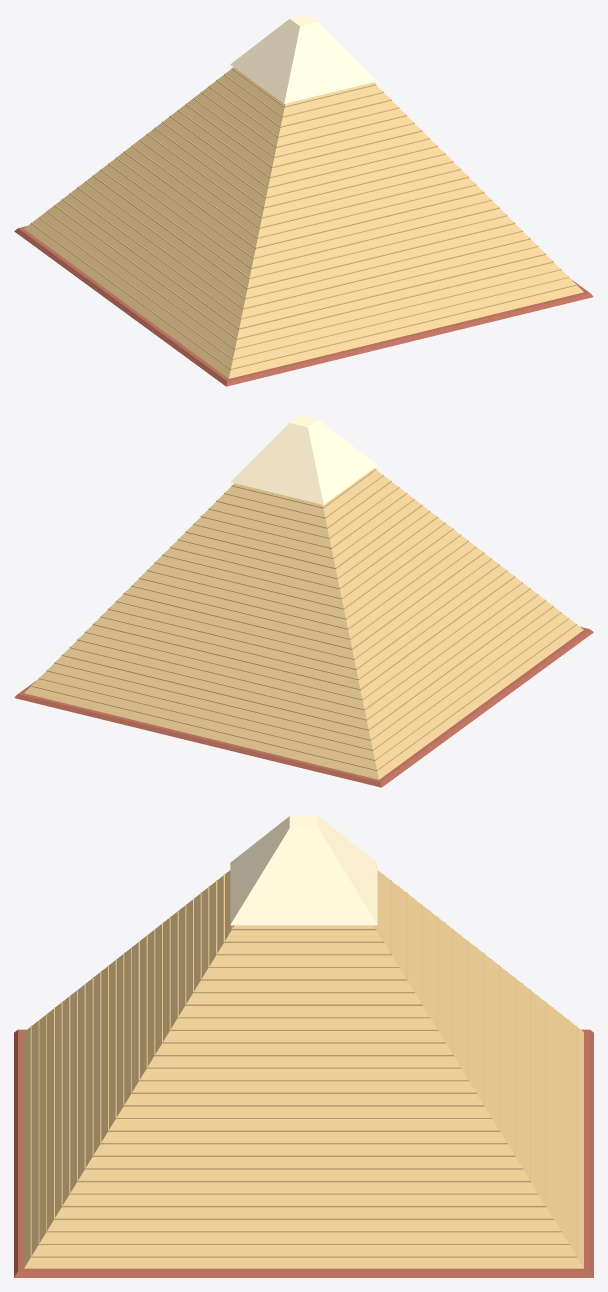
File: giza-khafre-ruin.glb
3 views of the same model, one above another, from view 1: azimuth 30°, elevation 25°; view 2: azimuth 150°, elevation 25°; view 3: azimuth 270°, elevation 25° (orthographic). The views are drawn at different scales.
Bounding box in the file's own units: 215 × 136 × 215.
